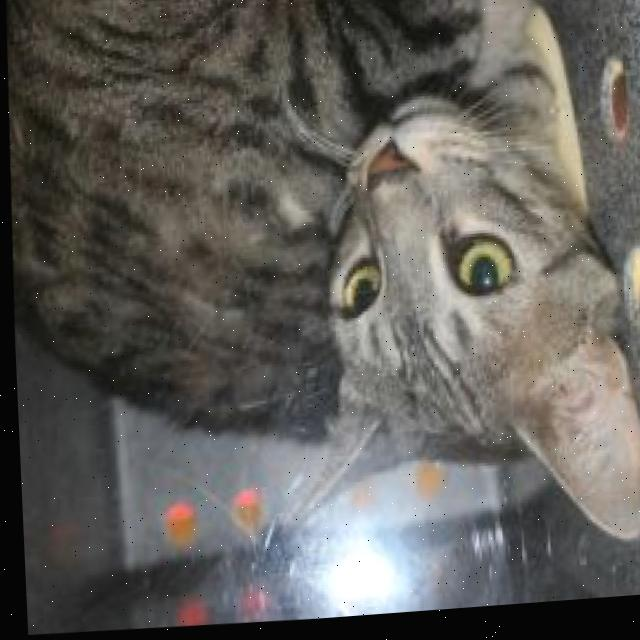Egyptian Mau: (0, 0, 640, 589)
